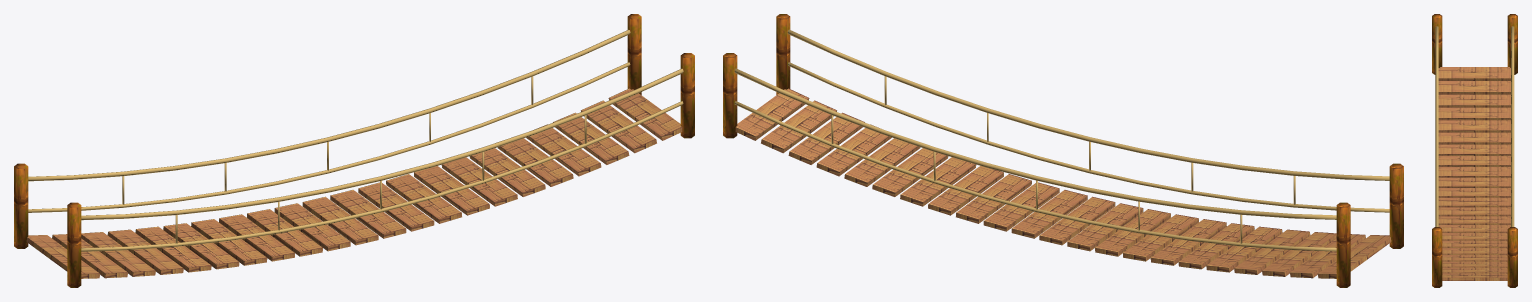
The model's file is bridge.glb.
3 renders of one model, left to right at view 1: azimuth 30°, elevation 25°; view 2: azimuth 150°, elevation 25°; view 3: azimuth 270°, elevation 25°, orthographic. The views are drawn at different scales.
Parts seen in each view (by area): view 1: bridge; view 2: bridge; view 3: bridge.
Boxes of the visible parts, left/top/right/bottom form: bridge: left=14, top=14, right=694, bottom=287; bridge: left=723, top=14, right=1403, bottom=287; bridge: left=1432, top=14, right=1517, bottom=287.
Bounding box in the file's own units: 10.17 × 1.7 × 1.7.
Materials: 3 (2 with a texture image).
